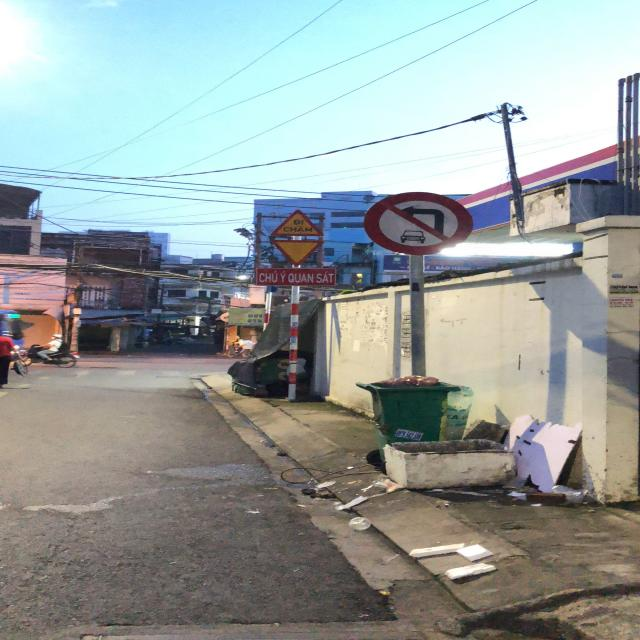Bien bao cam xe o to re trai: (360, 188, 476, 253)
Bien bao di cham: (267, 208, 327, 239)
Bien bao giao nhau voi duong uu tien: (270, 237, 326, 267)
